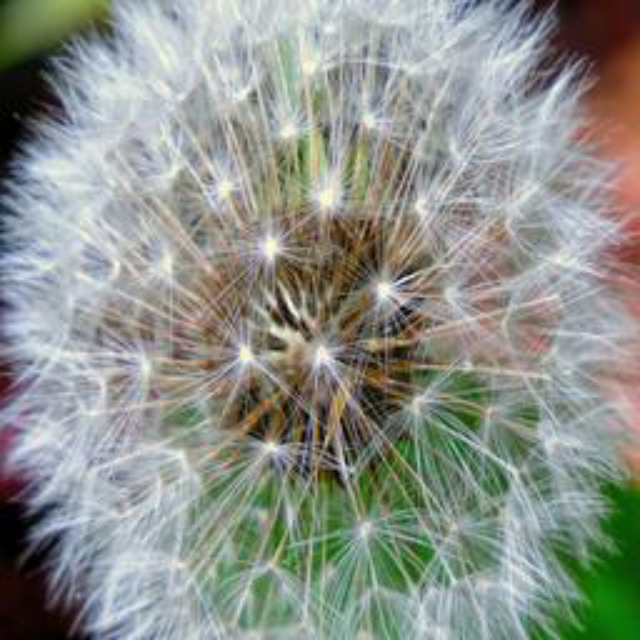dandelion: (4, 4, 633, 627)
